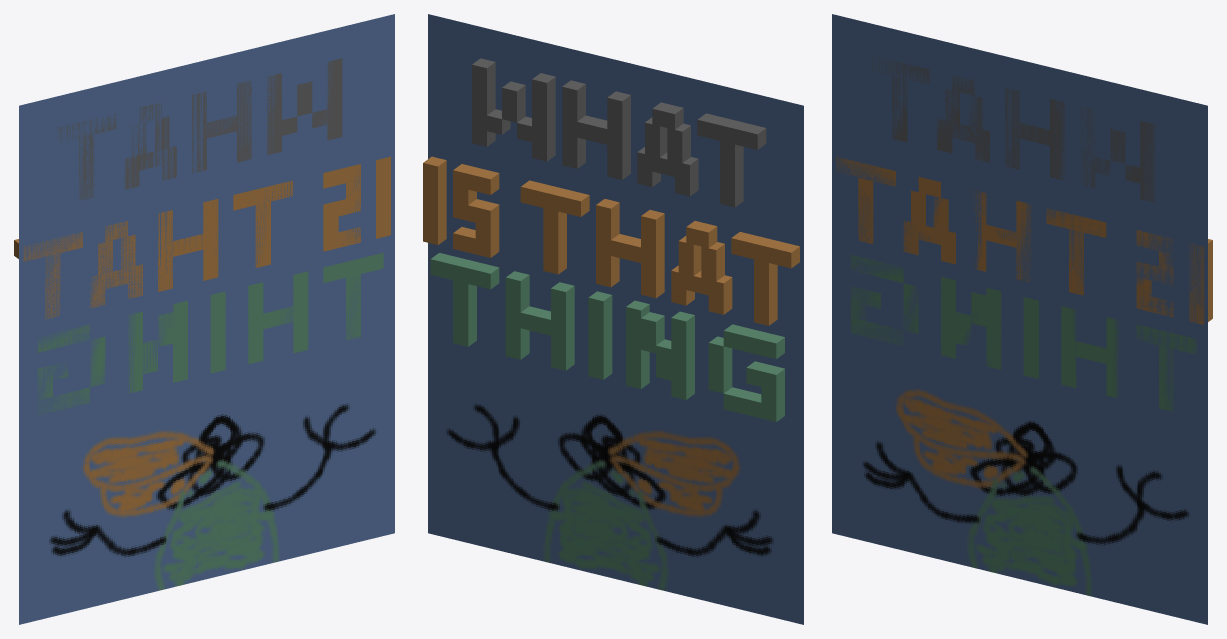
The model's file is titlecard.gltf.
3 renders of one model, left to right at view 1: azimuth 30°, elevation 25°; view 2: azimuth 150°, elevation 25°; view 3: azimuth 330°, elevation 25°, orthographic.
Visible parts, largest first — view 1: plane, cube (×26); view 2: plane, cube (×43); view 3: plane, cube (×24).
Boxes of the visible parts, bbox=[...] form: plane: bbox=[19, 14, 394, 624]; cube (×26): bbox=[14, 58, 390, 415]; plane: bbox=[428, 14, 803, 624]; cube (×43): bbox=[423, 58, 799, 421]; plane: bbox=[832, 14, 1207, 624]; cube (×24): bbox=[836, 57, 1212, 411].
Size of the model in its own units: 3.12 by 4.12 by 0.125.
Materials: 1 (1 with a texture image).
